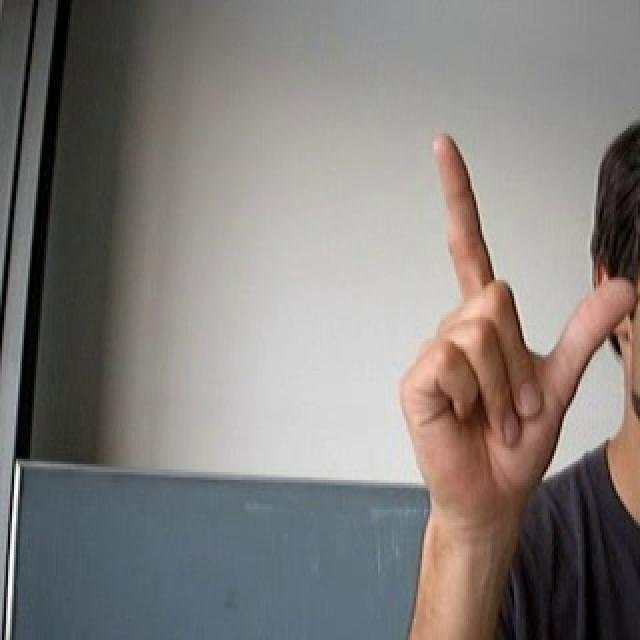L: (388, 127, 640, 517)
